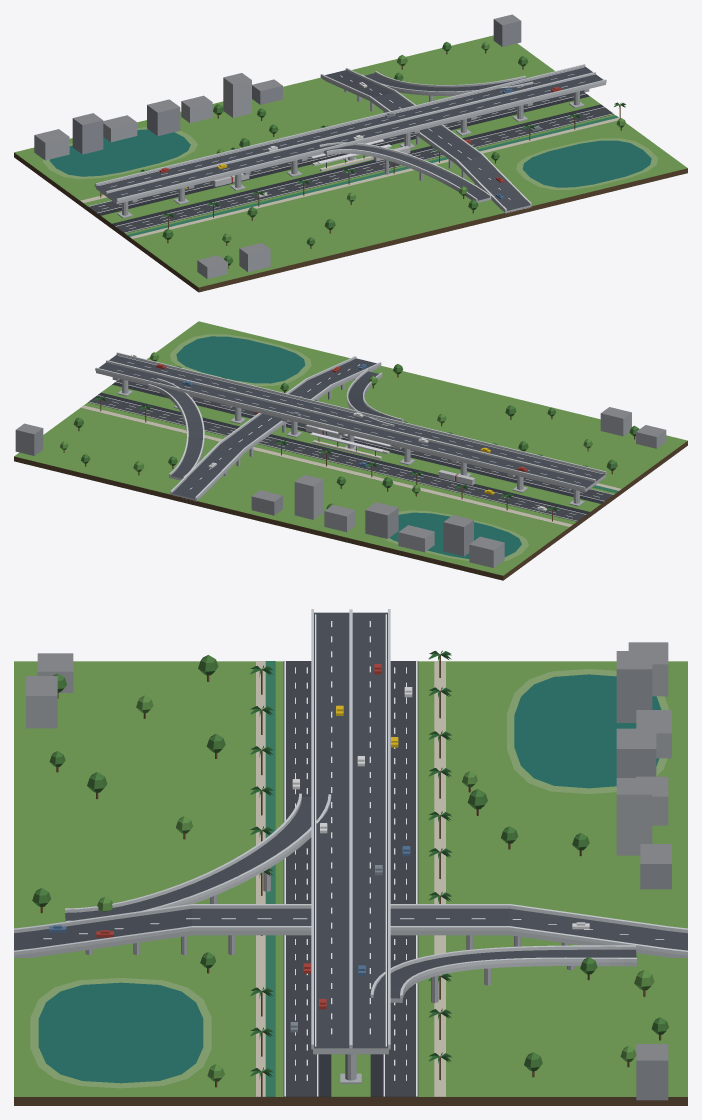
The model's file is via-expresa-elevada.obj.
The picture shows the model from 3 angles, top to bottom: view 1: azimuth 30°, elevation 25°; view 2: azimuth 150°, elevation 25°; view 3: azimuth 270°, elevation 25°; orthographic projection. The views are drawn at different scales.
Parts seen in each view (by area): view 1: Terreno, CorredorVial, ViaductoPrincipal, Lagunas, Edificios, AvenidaCruce, RampasCurvas, Vegetacion, ColumnasViaducto, Vehiculos, EstacionMetropolitano; view 2: Terreno, CorredorVial, ViaductoPrincipal, Edificios, Lagunas, AvenidaCruce, RampasCurvas, Vegetacion, ColumnasViaducto, Vehiculos, EstacionMetropolitano; view 3: Terreno, ViaductoPrincipal, CorredorVial, Lagunas, AvenidaCruce, Edificios, RampasCurvas, Vegetacion, Vehiculos.
Boxes of the visible parts, x1,y1,x2,y2 form: Terreno: (14, 35, 687, 292); CorredorVial: (80, 91, 619, 238); ViaductoPrincipal: (95, 64, 606, 203); Lagunas: (42, 127, 657, 189); Edificios: (34, 14, 521, 278); AvenidaCruce: (320, 68, 531, 213); RampasCurvas: (319, 71, 533, 202); Vegetacion: (94, 42, 625, 268); ColumnasViaducto: (117, 89, 589, 218); Vehiculos: (159, 82, 561, 199); EstacionMetropolitano: (311, 139, 391, 171); Terreno: (14, 321, 687, 580); CorredorVial: (80, 379, 621, 527); ViaductoPrincipal: (95, 352, 606, 492); Edificios: (15, 407, 666, 567); Lagunas: (170, 334, 528, 561); AvenidaCruce: (170, 356, 381, 501); RampasCurvas: (148, 369, 403, 480); Vegetacion: (60, 352, 638, 521); ColumnasViaducto: (112, 377, 584, 506); Vehiculos: (156, 364, 547, 511); EstacionMetropolitano: (310, 427, 391, 459); Terreno: (14, 661, 687, 1105); ViaductoPrincipal: (311, 609, 390, 1054); CorredorVial: (256, 660, 445, 1096); Lagunas: (30, 669, 669, 1088); AvenidaCruce: (14, 904, 687, 957); Edificios: (26, 642, 671, 1100); RampasCurvas: (65, 793, 636, 1002); Vegetacion: (32, 650, 668, 1097); Vehiculos: (49, 664, 589, 1032).
Bounding box in the file's own units: 263 × 19.5 × 170.
